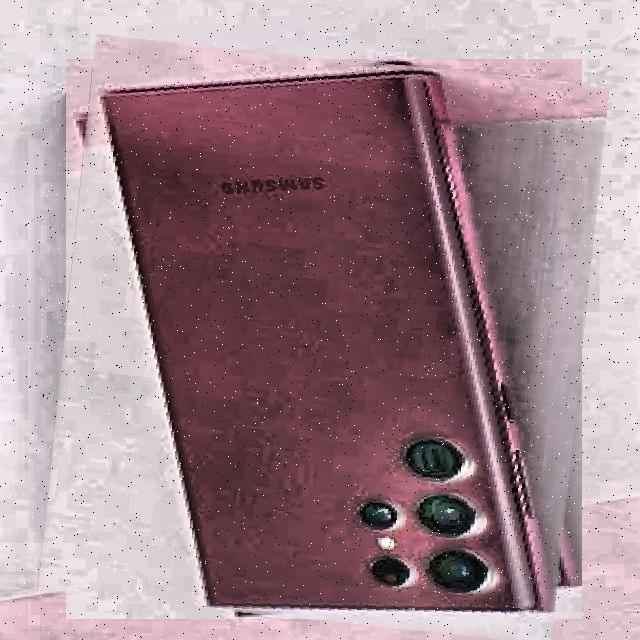Phone: (51, 46, 596, 632)
